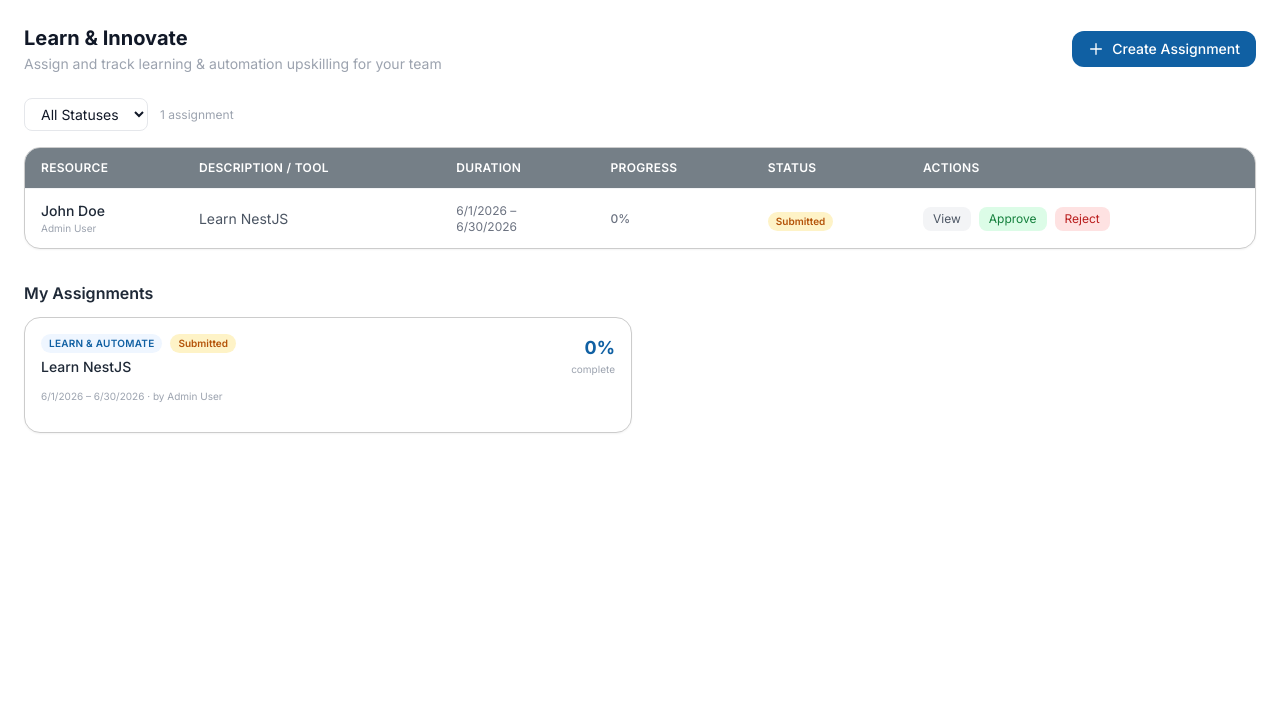
Test: Reject shows dialog and validates empty reason
Click the button "Reject". click: click(1082, 218)
box: [1054,206,1110,230]
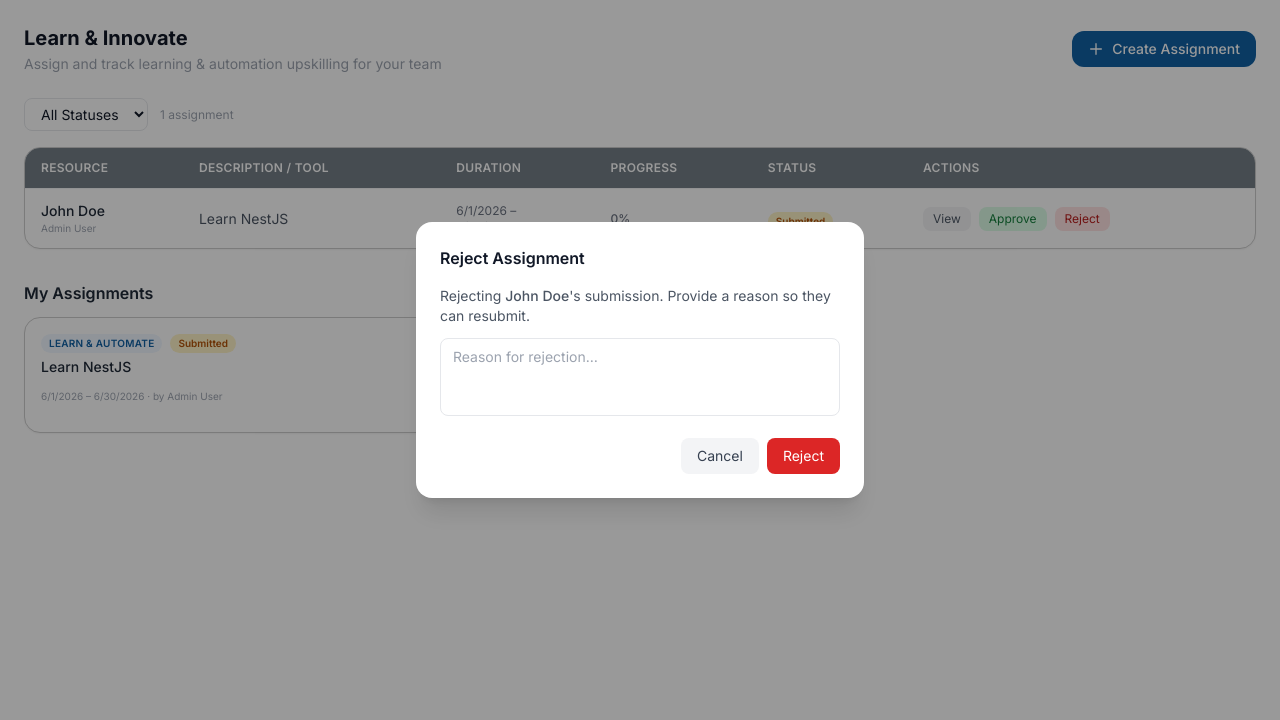
Check: the heading "Reject Assignment" is shown, box [440,248,585,268]
Click the button "Reject". click: click(803, 456)
box: [767,438,840,474]
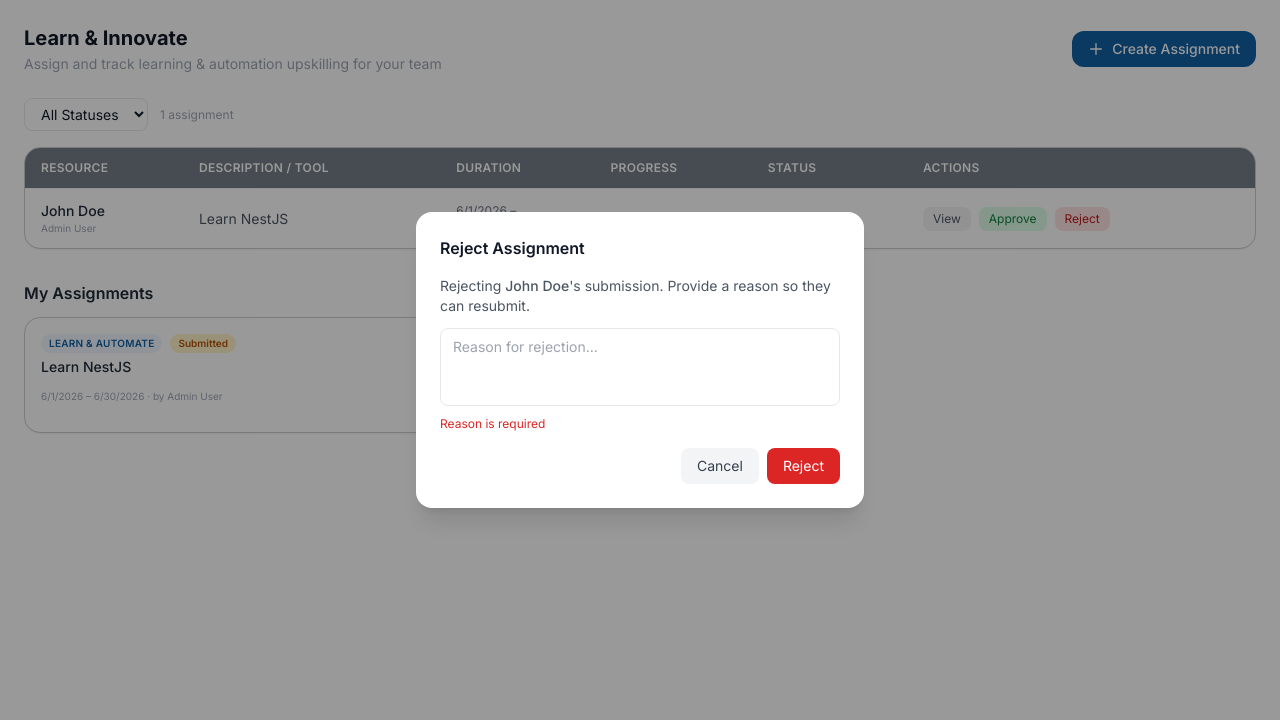
Check: the text "Reason is required" is shown, box [440,416,545,431]
